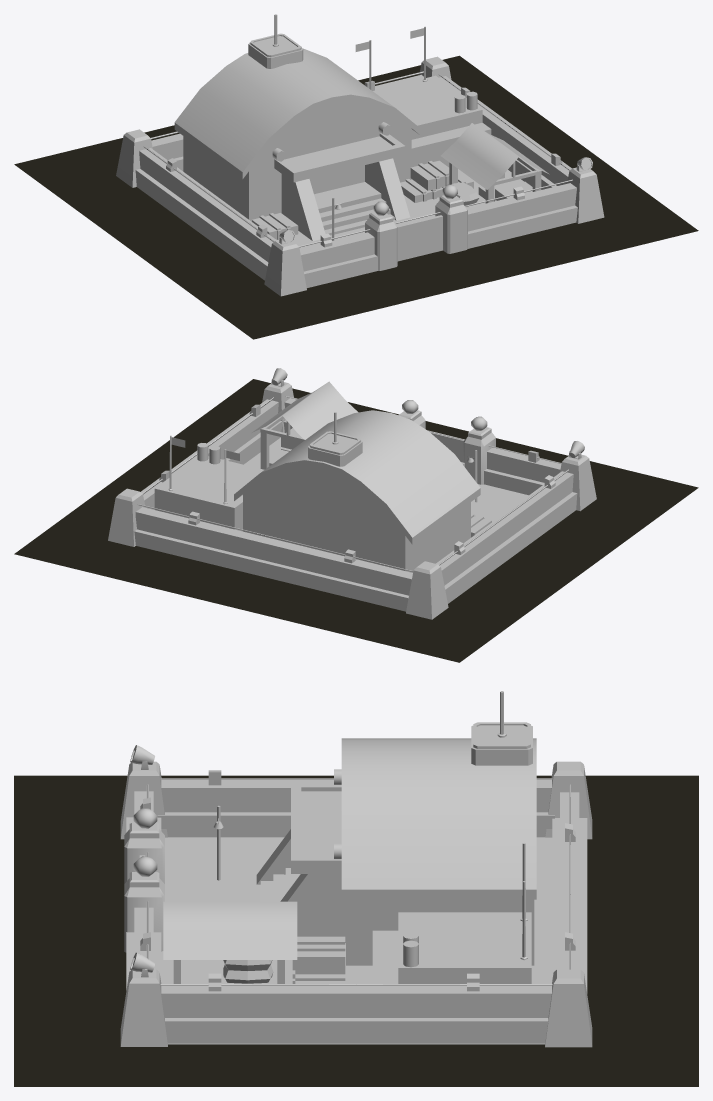
File: zhengzhaosuo_01.FBX
3 views of the same model, one above another, from view 1: azimuth 30°, elevation 25°; view 2: azimuth 150°, elevation 25°; view 3: azimuth 270°, elevation 25° (orthographic). The views are drawn at different scales.
Parts seen in each view (by area): view 1: zhengzhaosuo_01, zhengzhaosuo_sh; view 2: zhengzhaosuo_01, zhengzhaosuo_sh; view 3: zhengzhaosuo_01, zhengzhaosuo_sh.
Part boxes in pixels (x1,y1,x2,y2): zhengzhaosuo_01: (116,14,604,296); zhengzhaosuo_sh: (14,55,698,339); zhengzhaosuo_01: (108,368,596,619); zhengzhaosuo_sh: (14,379,698,662); zhengzhaosuo_01: (120,691,592,1047); zhengzhaosuo_sh: (14,775,698,1086).
Bounding box in the file's own units: 1427 × 477 × 1328.
